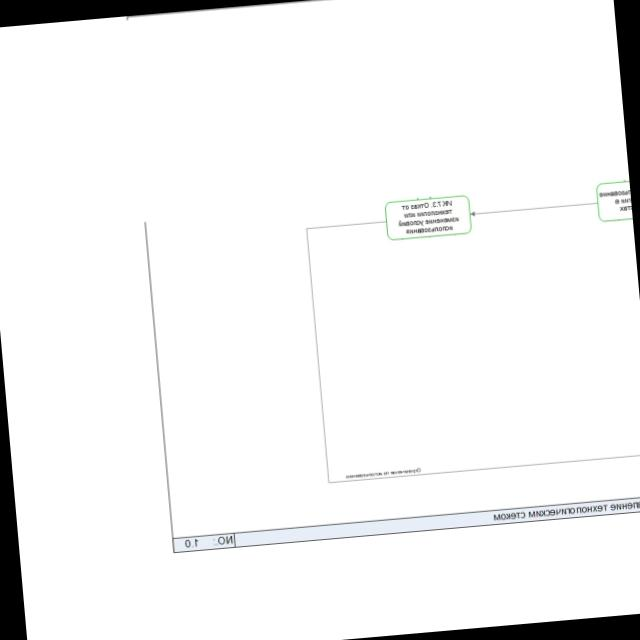arrow: (470, 199, 599, 217)
rectangle: (384, 193, 473, 240)
